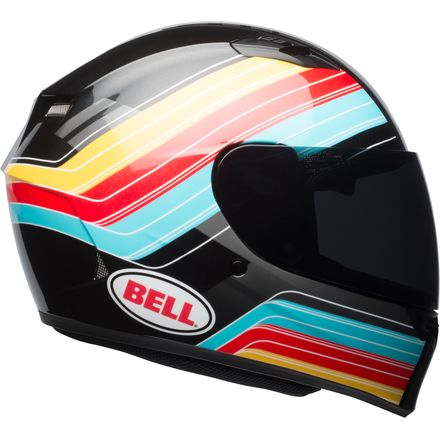helmet: (4, 29, 440, 425)
